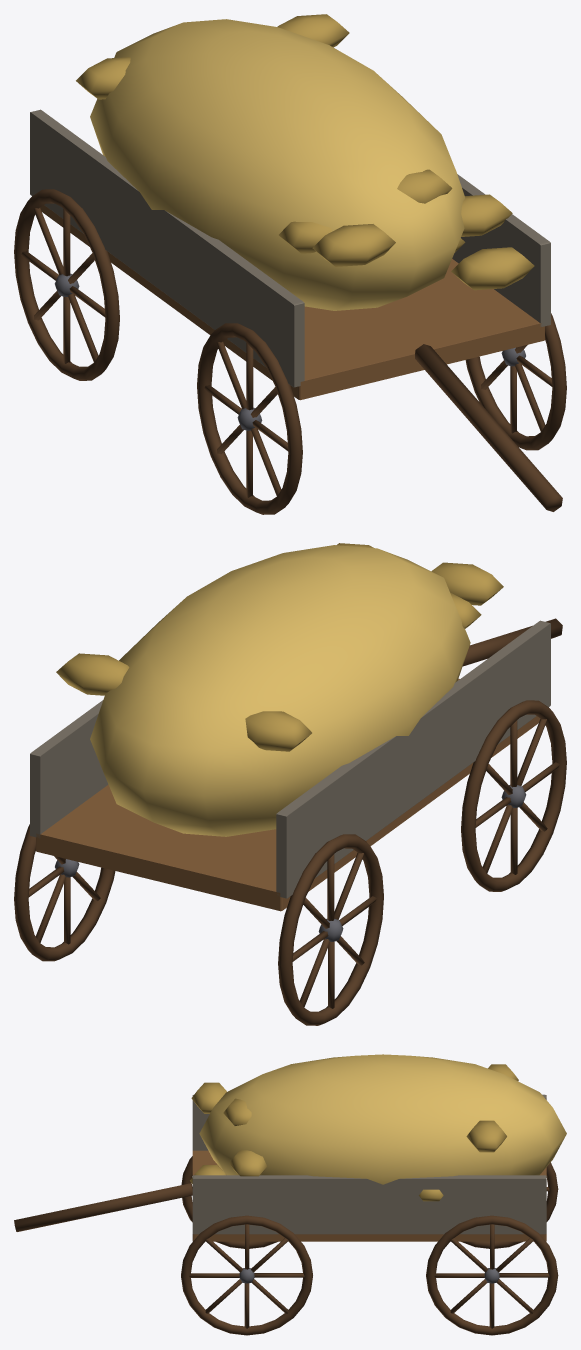
Rendered from karren_heu.glb.
3 views of the same model, one above another, from view 1: azimuth 30°, elevation 25°; view 2: azimuth 150°, elevation 25°; view 3: azimuth 270°, elevation 25° (orthographic). The views are drawn at different scales.
Visible parts, largest first — view 1: Cube; view 2: Cube; view 3: Cube.
Part boxes in pixels (x1=…): Cube: x1=14, y1=14, x2=566, y2=514; Cube: x1=14, y1=543, x2=566, y2=1025; Cube: x1=14, y1=1054, x2=566, y2=1335.
Bounding box in the file's own units: 1.63 × 1.84 × 4.06.
